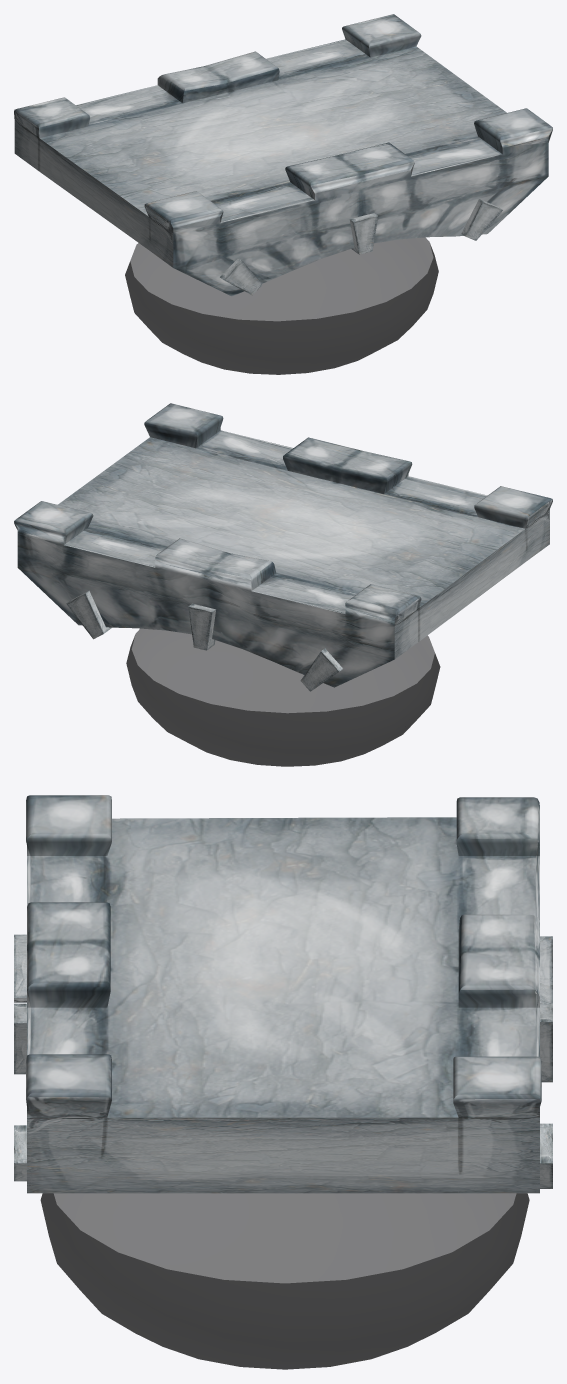
The model's file is platform-noorb.fbx.
The picture shows the model from 3 angles, top to bottom: view 1: azimuth 30°, elevation 25°; view 2: azimuth 150°, elevation 25°; view 3: azimuth 270°, elevation 25°; orthographic projection. The views are drawn at different scales.
Visible parts, largest first — view 1: orb_mesh1; view 2: orb_mesh1; view 3: orb_mesh1.
Part boxes in pixels (x1,y1,x2,y2): orb_mesh1: (14, 14, 552, 374); orb_mesh1: (14, 403, 552, 766); orb_mesh1: (14, 795, 552, 1369).
Bounding box in the file's own units: 1263 × 749 × 944.
